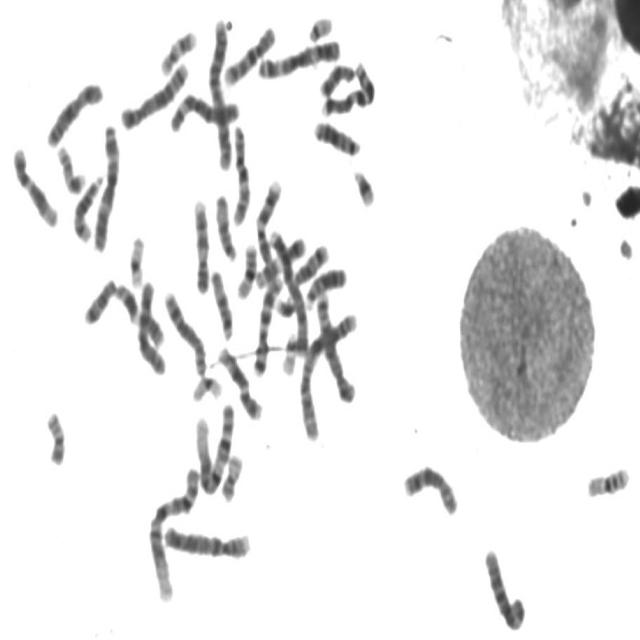A1: (145, 459, 202, 604), (192, 394, 236, 496)
A2: (295, 303, 359, 443), (204, 11, 234, 172)
A3: (90, 115, 122, 253), (255, 31, 343, 81)
B4: (264, 221, 310, 360), (159, 517, 253, 563)
B5: (116, 53, 192, 132), (312, 284, 358, 404)
C10: (221, 18, 278, 88), (228, 116, 253, 228)
C11: (112, 276, 166, 348), (252, 228, 308, 290)
C12: (8, 138, 61, 230), (215, 339, 264, 422)
C6: (480, 540, 528, 632), (165, 85, 242, 135)
C7: (250, 267, 286, 377), (317, 54, 378, 118)
C8: (160, 282, 209, 378), (400, 456, 461, 518)
C9: (252, 172, 284, 289), (188, 190, 212, 296)
D13: (302, 258, 349, 311), (310, 112, 363, 157)
D14: (69, 166, 106, 245), (290, 236, 331, 287)
D15: (207, 262, 235, 341), (212, 186, 239, 264)
E16: (583, 458, 632, 499), (233, 236, 259, 301)
E17: (156, 22, 199, 78), (53, 137, 88, 195)
E18: (80, 271, 118, 327), (316, 54, 357, 99)
F19: (125, 227, 147, 289), (189, 368, 224, 403)
F20: (42, 402, 68, 467), (218, 446, 245, 504)
G21: (349, 161, 377, 208), (271, 289, 297, 319)
G22: (278, 324, 300, 376), (304, 8, 334, 43)
X: (42, 73, 105, 150), (134, 274, 168, 376)
